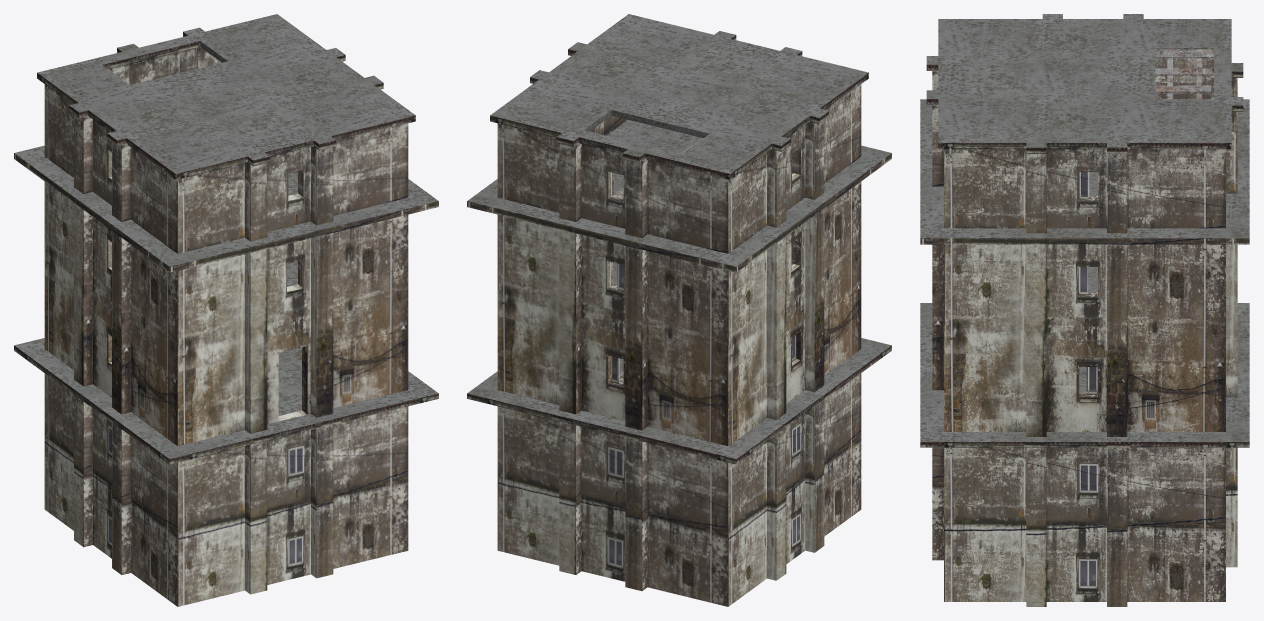
Rendered from BagBuilding21_200.fbx.
3 views of the same model, side by side, from view 1: azimuth 30°, elevation 25°; view 2: azimuth 150°, elevation 25°; view 3: azimuth 270°, elevation 25° (orthographic). The views are drawn at different scales.
Visible parts, largest first — view 1: main200, floors200; view 2: main200, floors200; view 3: main200, floors200, stairs200.
Boxes of the visible parts, left/top/right/bottom form: main200: left=14, top=32, right=438, bottom=606; floors200: left=14, top=14, right=438, bottom=458; main200: left=467, top=35, right=891, bottom=606; floors200: left=467, top=14, right=891, bottom=458; main200: left=920, top=49, right=1249, bottom=606; floors200: left=920, top=14, right=1249, bottom=441; stairs200: left=1155, top=48, right=1213, bottom=98.
Size of the model in its own units: 19.63 by 30.36 by 19.62.
